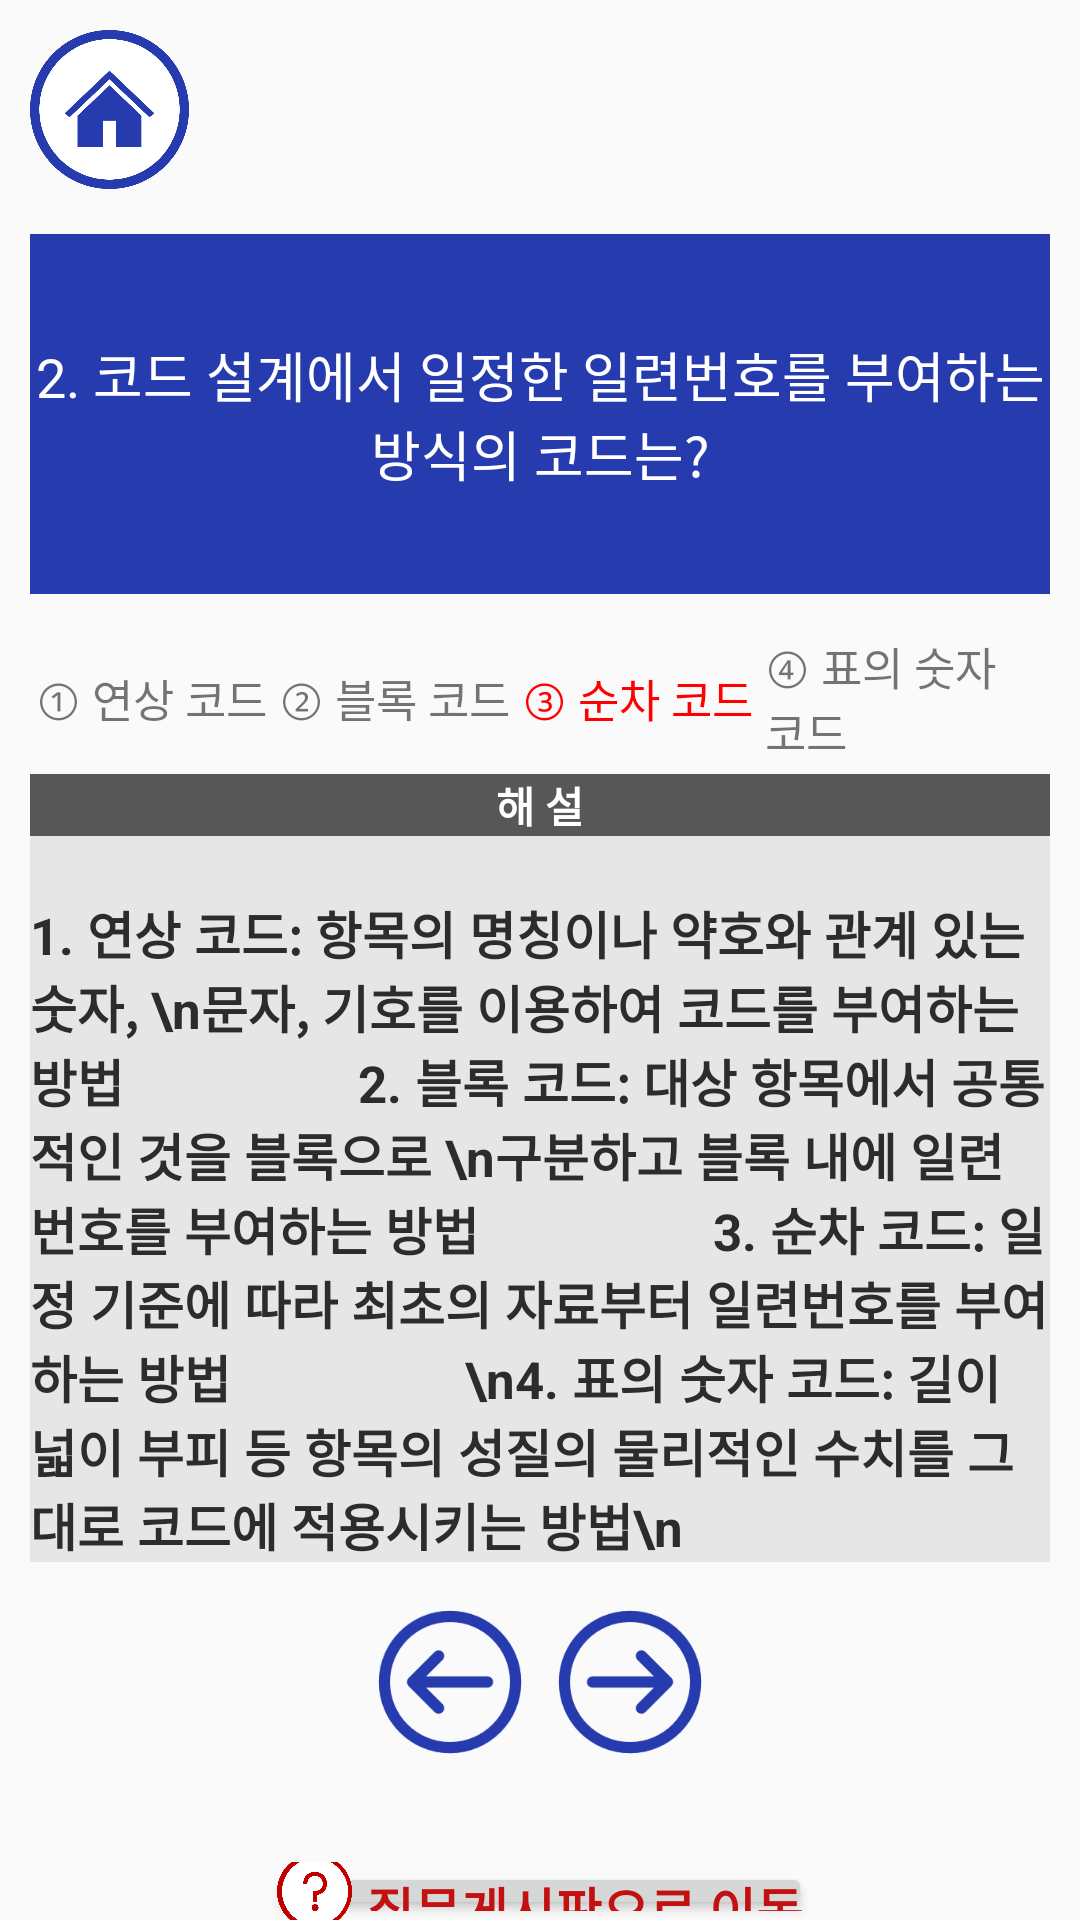

Where icons sit on this 1080w x 1920h app screen, as [x1, y1, x2, y2]:
back: [378, 1610, 522, 1754]
home: [30, 30, 189, 189]
next: [558, 1610, 702, 1754]
